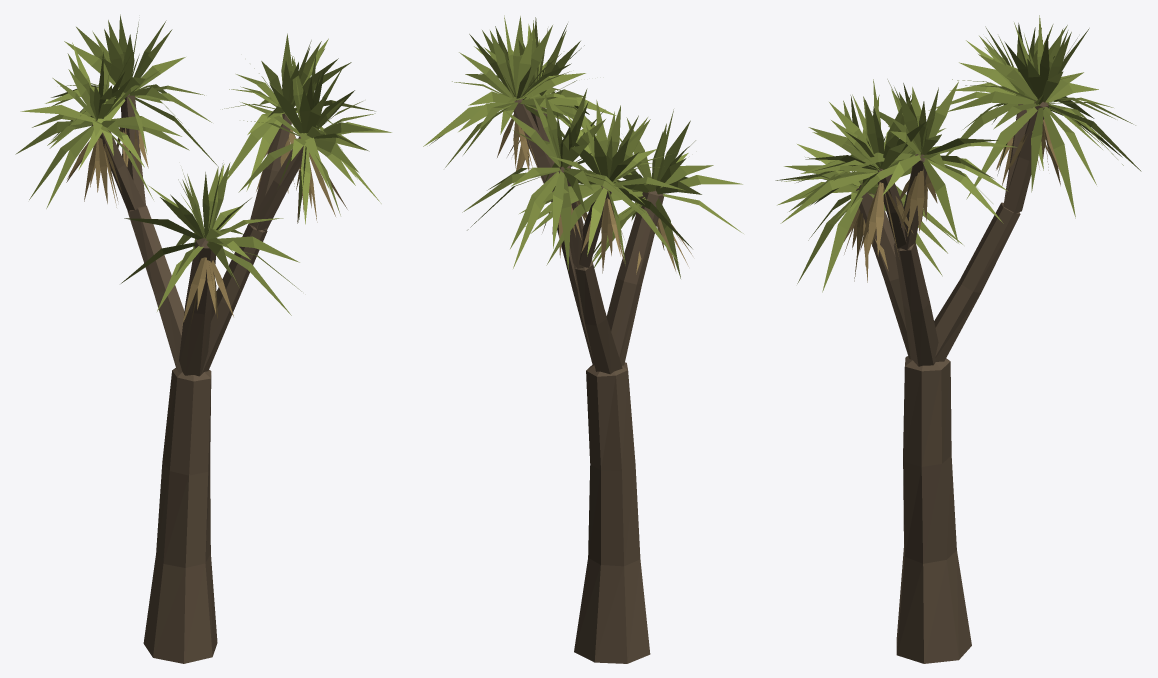
The model's file is cabbage-tree.glb.
The picture shows the model from 3 angles, left to right: view 1: azimuth 30°, elevation 25°; view 2: azimuth 150°, elevation 25°; view 3: azimuth 270°, elevation 25°; orthographic projection. The views are drawn at different scales.
Parts seen in each view (by area): view 1: cabbage-tree; view 2: cabbage-tree; view 3: cabbage-tree.
Boxes of the visible parts, x1=… form: cabbage-tree: x1=15, y1=14, x2=391, y2=663; cabbage-tree: x1=423, y1=15, x2=743, y2=663; cabbage-tree: x1=775, y1=15, x2=1141, y2=663.
Bounding box in the file's own units: 3.33 × 6.65 × 3.59.
